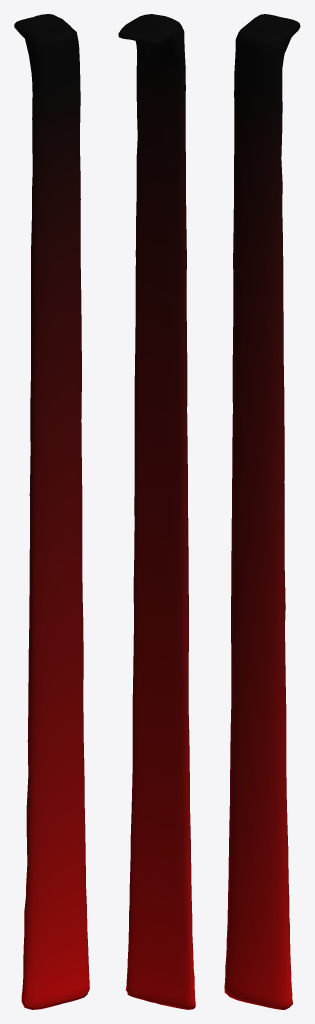
File: SM_Env_Water_Plane_Waterfall_01.fbx
3 views of the same model, side by side, from view 1: azimuth 30°, elevation 25°; view 2: azimuth 150°, elevation 25°; view 3: azimuth 330°, elevation 25° (orthographic).
Visible parts, largest first — view 1: SM_Env_Water_Plane_Waterfall_01; view 2: SM_Env_Water_Plane_Waterfall_01; view 3: SM_Env_Water_Plane_Waterfall_01.
Boxes of the visible parts, x1,y1,x2,y2 form: SM_Env_Water_Plane_Waterfall_01: (14,14,89,1009); SM_Env_Water_Plane_Waterfall_01: (118,14,195,1009); SM_Env_Water_Plane_Waterfall_01: (224,14,300,1009).
Size of the model in its own units: 850 by 11631 by 672.
